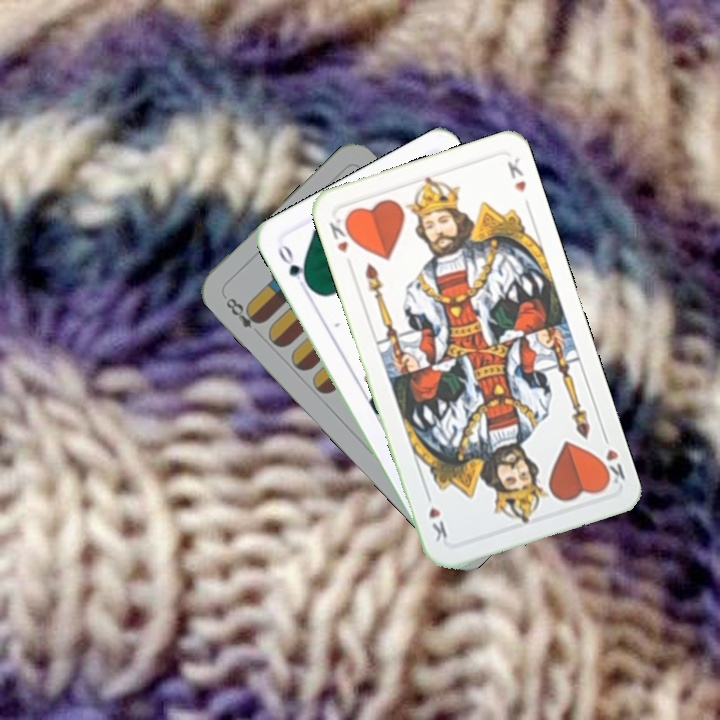E8: (221, 293, 266, 331)
GO: (273, 241, 313, 294)
HK: (594, 429, 628, 490), (325, 213, 357, 256)
